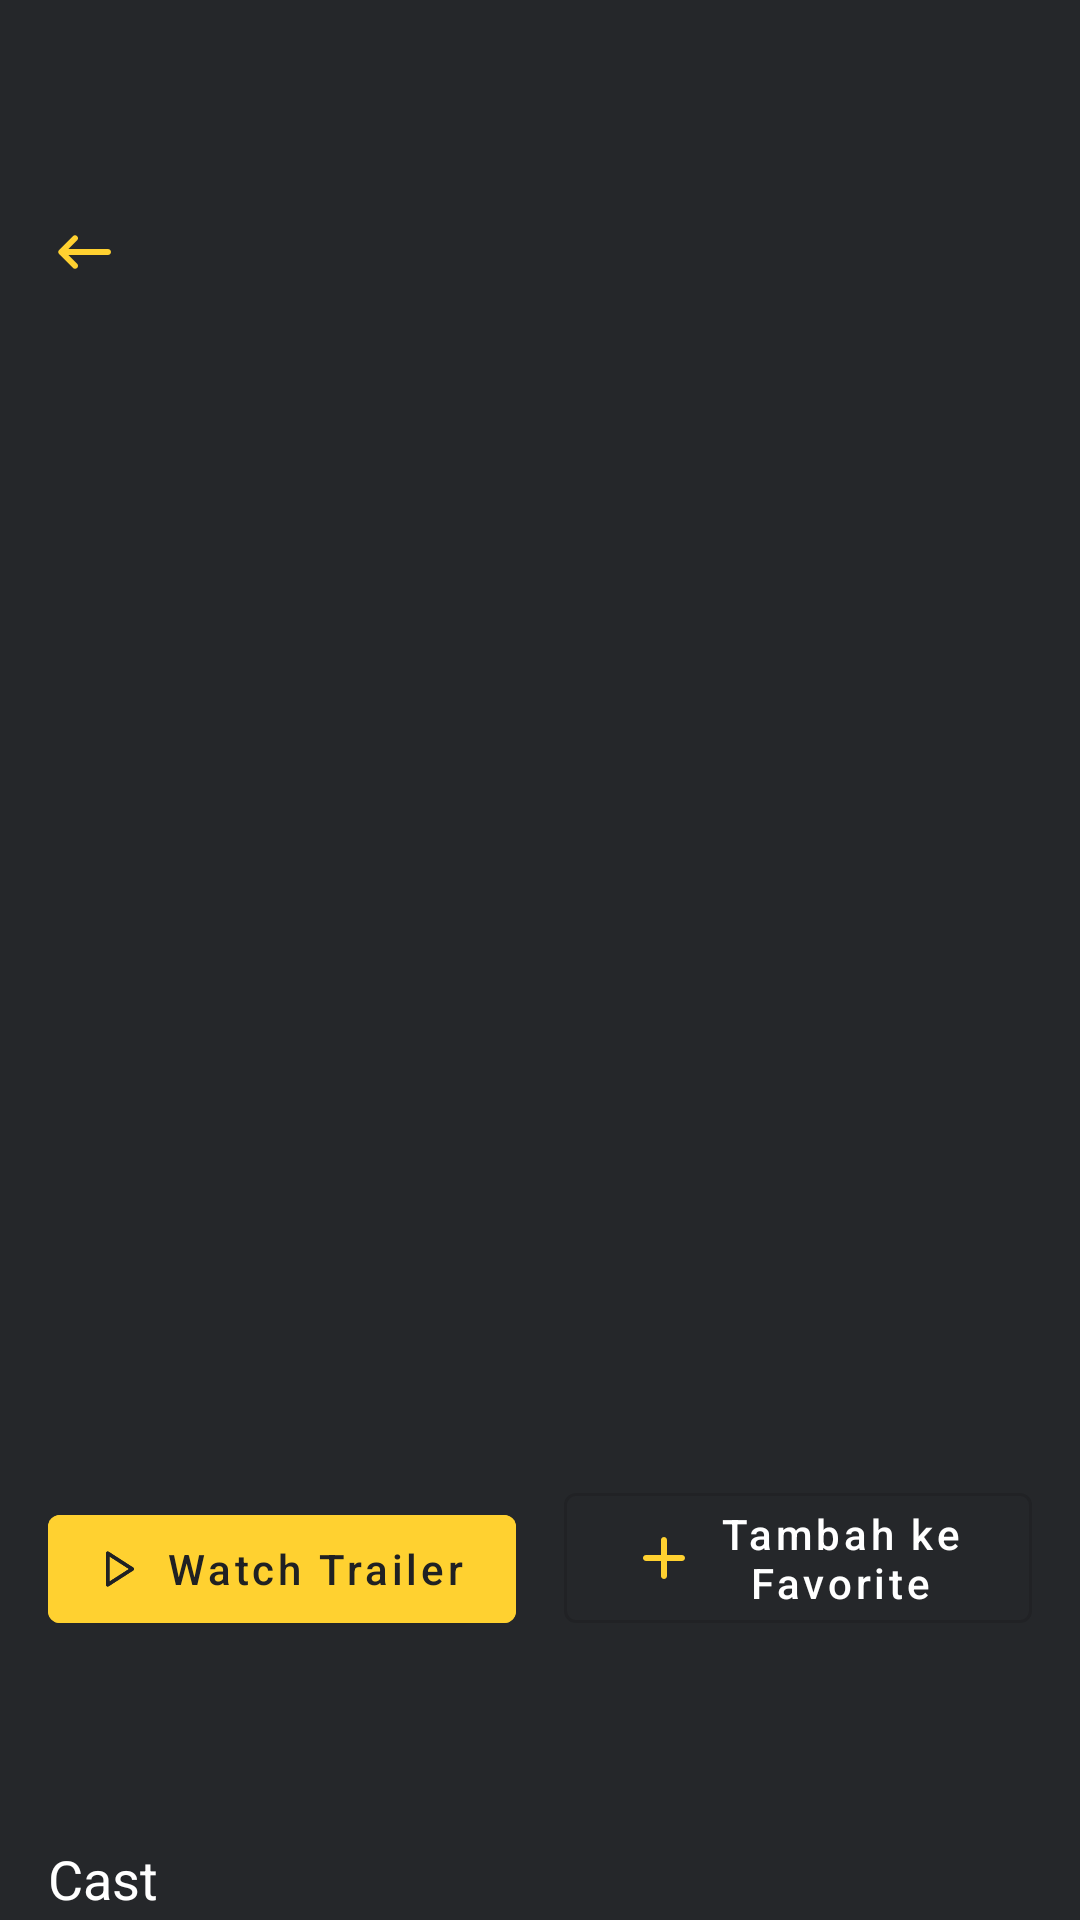

Icon click points for this 1080w x 1920h phone screenshot, format [x,y]:
Kembali Ke Beranda: [84,252]
